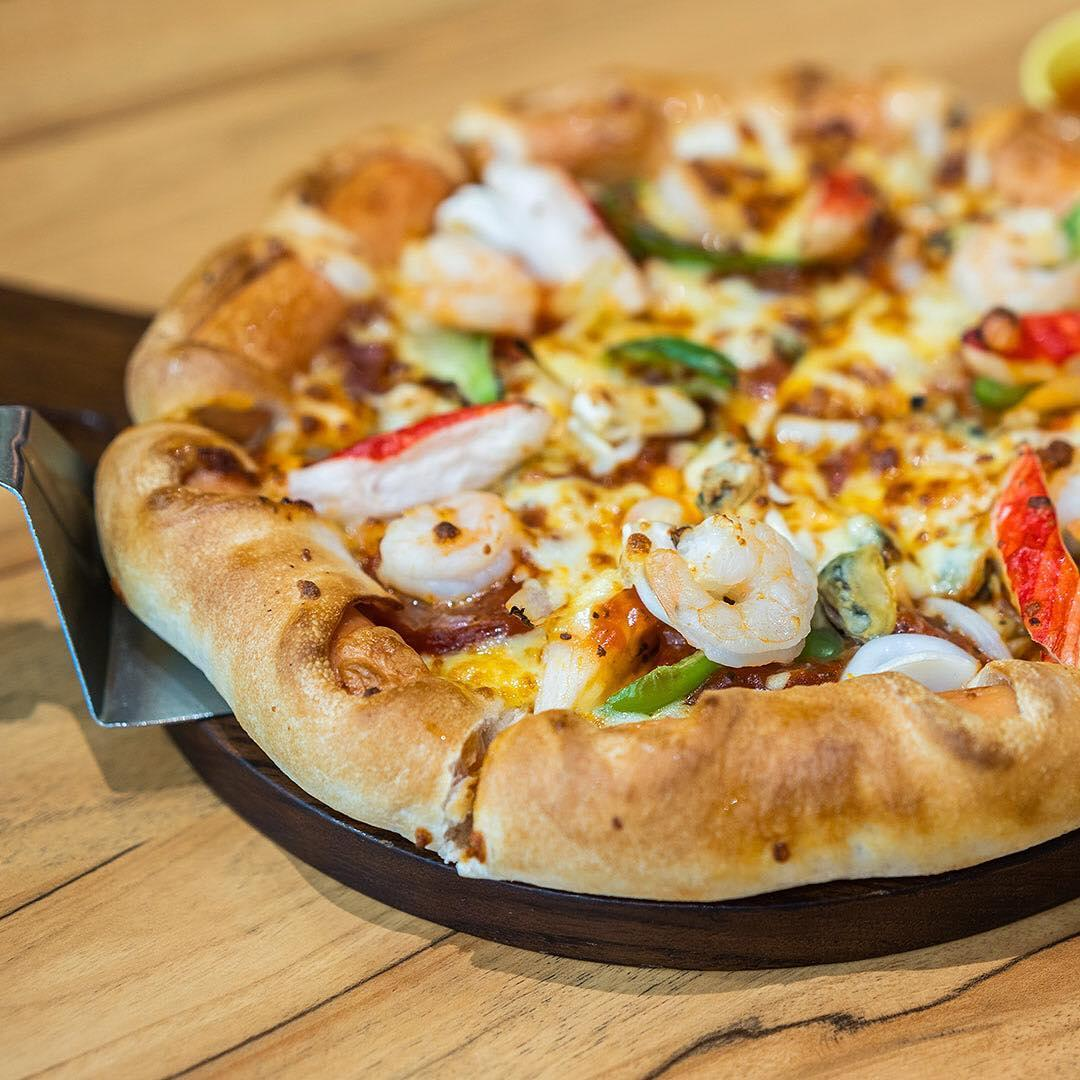Peppers: (588, 185, 865, 295), (976, 434, 1080, 672), (592, 330, 745, 404), (401, 316, 515, 412), (588, 653, 718, 725), (959, 367, 1041, 412), (794, 619, 848, 661)
Pizza: (85, 65, 1080, 910)
